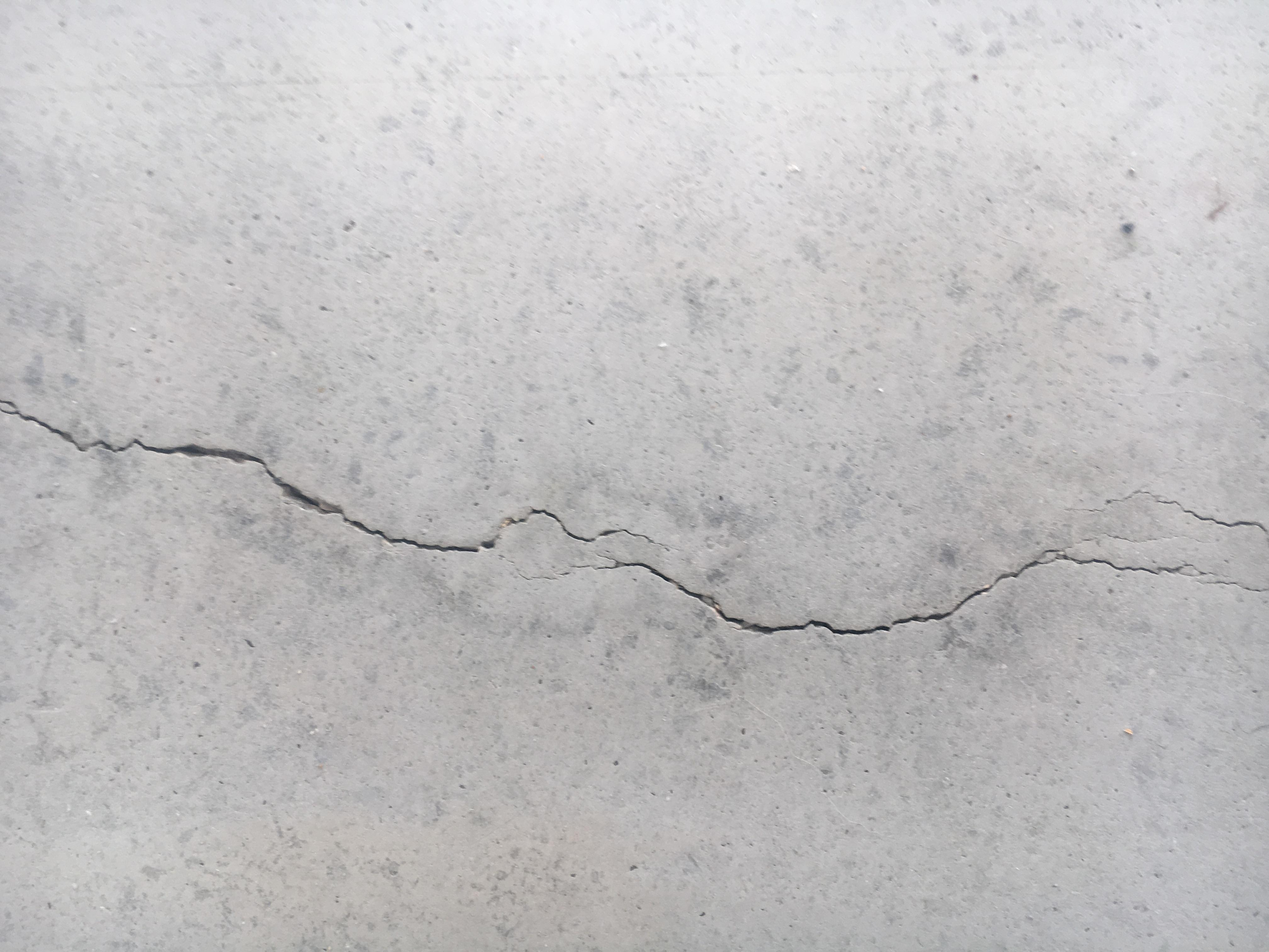Horizontal Settlement Crack: (2, 394, 1266, 640)
